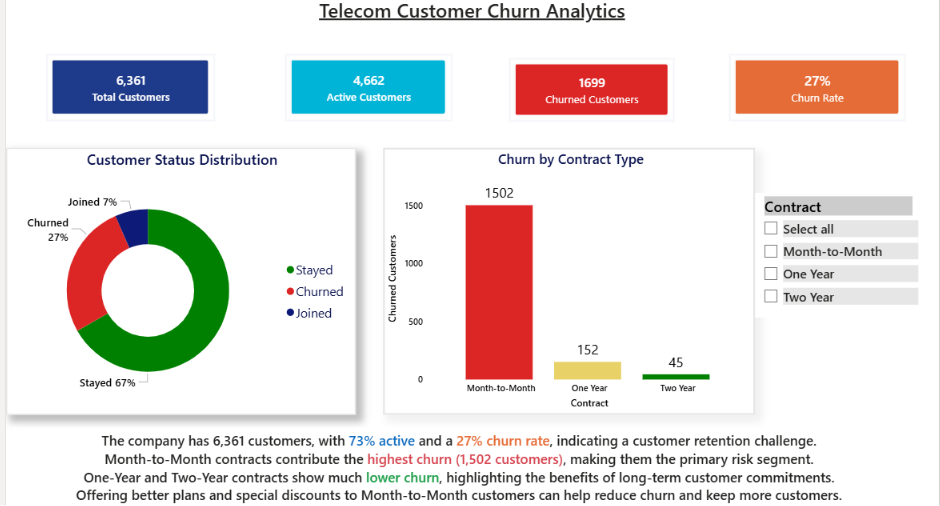

This screenshot's page, from the dashboard's own definition file:
{"tool":"powerbi","page":{"name":"executive","canvas":[1280,720],"ordinal":0},"visuals":[{"type":"textbox","box":[4.7,0,1270.5,62.4],"z":0},{"type":"cardVisual","fields":{"Data":["_Measures.Total Customers"]},"box":[55,84.4,232.3,92.9],"z":1000},{"type":"cardVisual","fields":{"Data":["_Measures.Churn Rate"]},"box":[991.7,84.4,242.1,92.9],"z":2000},{"type":"cardVisual","fields":{"Data":["_Measures.Churned Customers"]},"box":[689.7,89.3,227.4,88],"z":3000},{"type":"cardVisual","fields":{"Data":["_Measures.Active Customers"]},"box":[382.7,84.4,229.9,92.9],"z":4000},{"type":"donutChart","title":"Customer Status Distribution","fields":{"Category":["telecom_customer_churn.Customer Status"],"Y":["_Measures.Total Customers"]},"box":[0,212.7,480.3,366.4],"z":5000},{"type":"clusteredColumnChart","title":"Churn by Contract Type","fields":{"Category":["telecom_customer_churn.Contract"],"Y":["_Measures.Churned Customers"]},"box":[517.3,212.7,510.5,366.4],"z":6000},{"type":"slicer","fields":{"Values":["telecom_customer_churn.Contract"]},"box":[1027.8,274.4,229.2,171.5],"z":7000},{"type":"textbox","box":[9.6,596.9,1224,123.5],"z":8000}]}

Visuals, with their boxes on the page's 1280x720 design canvas (x1, y1, x2, y2). These are canvas units, not pixel positions in the 940x506 screenshot, which may show the page scaled, cropped or inside an application window:
textbox: {"x1": 5, "y1": 0, "x2": 1275, "y2": 62}
cardVisual - _Measures.Total Customers: {"x1": 55, "y1": 84, "x2": 287, "y2": 177}
cardVisual - _Measures.Churn Rate: {"x1": 992, "y1": 84, "x2": 1234, "y2": 177}
cardVisual - _Measures.Churned Customers: {"x1": 690, "y1": 89, "x2": 917, "y2": 177}
cardVisual - _Measures.Active Customers: {"x1": 383, "y1": 84, "x2": 613, "y2": 177}
"Customer Status Distribution" donutChart: {"x1": 0, "y1": 213, "x2": 480, "y2": 579}
"Churn by Contract Type" clusteredColumnChart: {"x1": 517, "y1": 213, "x2": 1028, "y2": 579}
slicer - telecom_customer_churn.Contract: {"x1": 1028, "y1": 274, "x2": 1257, "y2": 446}
textbox: {"x1": 10, "y1": 597, "x2": 1234, "y2": 720}
